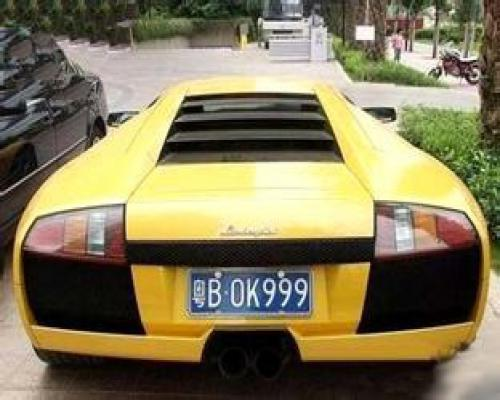Carplate: (181, 266, 319, 324)
